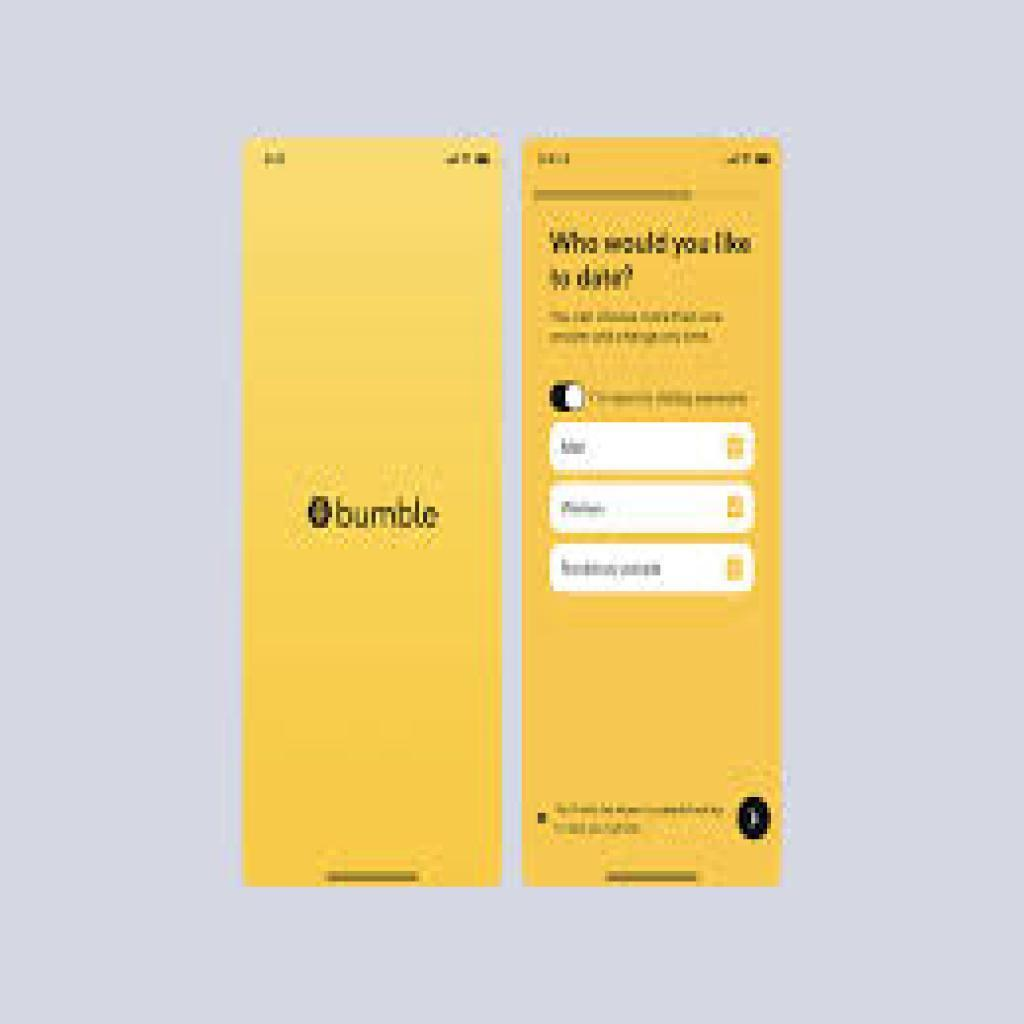input: (551, 484, 756, 538), (551, 543, 759, 594), (551, 422, 754, 472)
switch: (549, 381, 589, 418)
